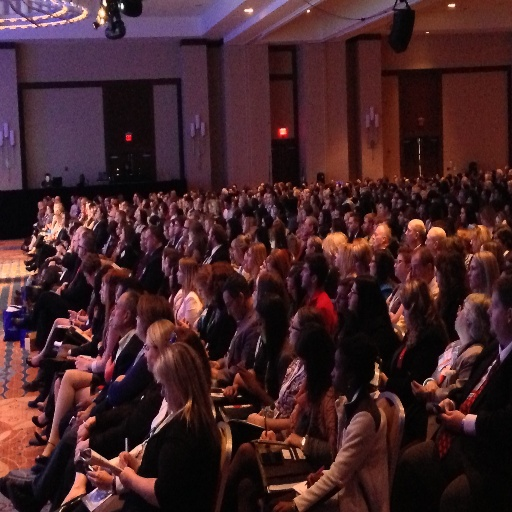hand: (237, 362, 259, 392), (85, 468, 114, 490), (437, 406, 464, 429), (117, 464, 138, 489), (117, 448, 138, 469), (306, 470, 324, 488), (283, 431, 302, 447), (272, 496, 291, 511), (437, 396, 456, 411), (246, 412, 265, 426), (421, 378, 440, 392), (73, 353, 88, 370), (74, 437, 87, 456), (76, 421, 88, 441), (76, 408, 90, 425), (221, 382, 238, 394), (89, 462, 109, 472), (411, 380, 425, 394), (258, 429, 275, 439), (77, 397, 89, 409), (68, 316, 81, 327), (178, 317, 191, 328), (80, 327, 91, 339), (115, 372, 126, 383), (210, 366, 218, 377), (53, 285, 61, 295), (209, 359, 220, 366), (48, 259, 57, 267), (77, 307, 85, 316), (96, 339, 102, 350), (68, 309, 76, 317), (52, 216, 57, 227), (45, 255, 54, 260), (39, 229, 45, 235), (56, 251, 61, 258), (60, 281, 65, 288), (389, 312, 394, 319)
